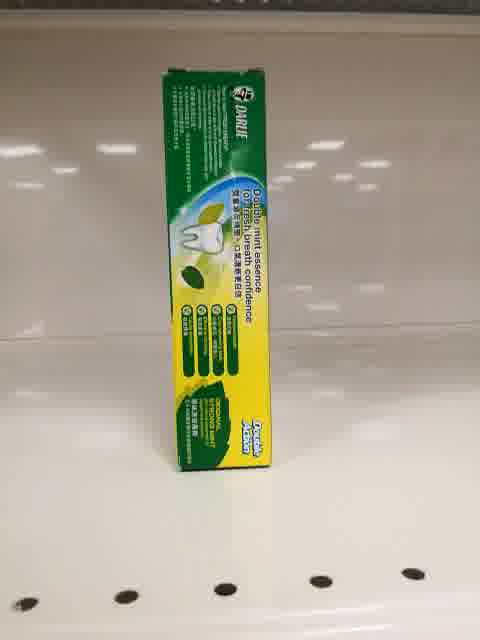toothpaste: (161, 67, 271, 471)
